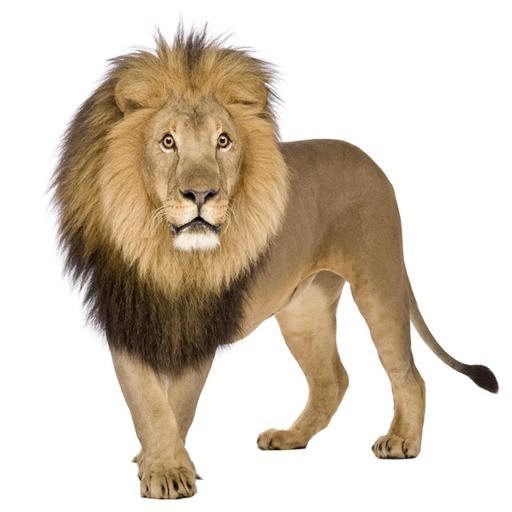Lion: (45, 12, 503, 512)
